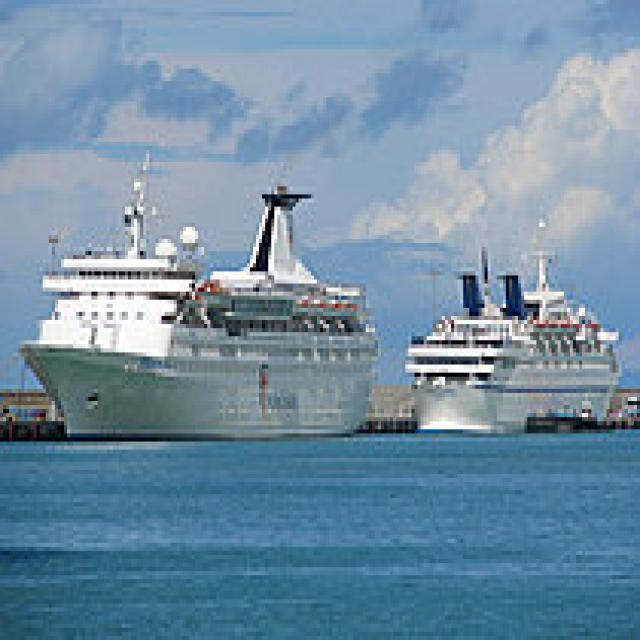Ship: (41, 139, 383, 443), (400, 232, 623, 459)
